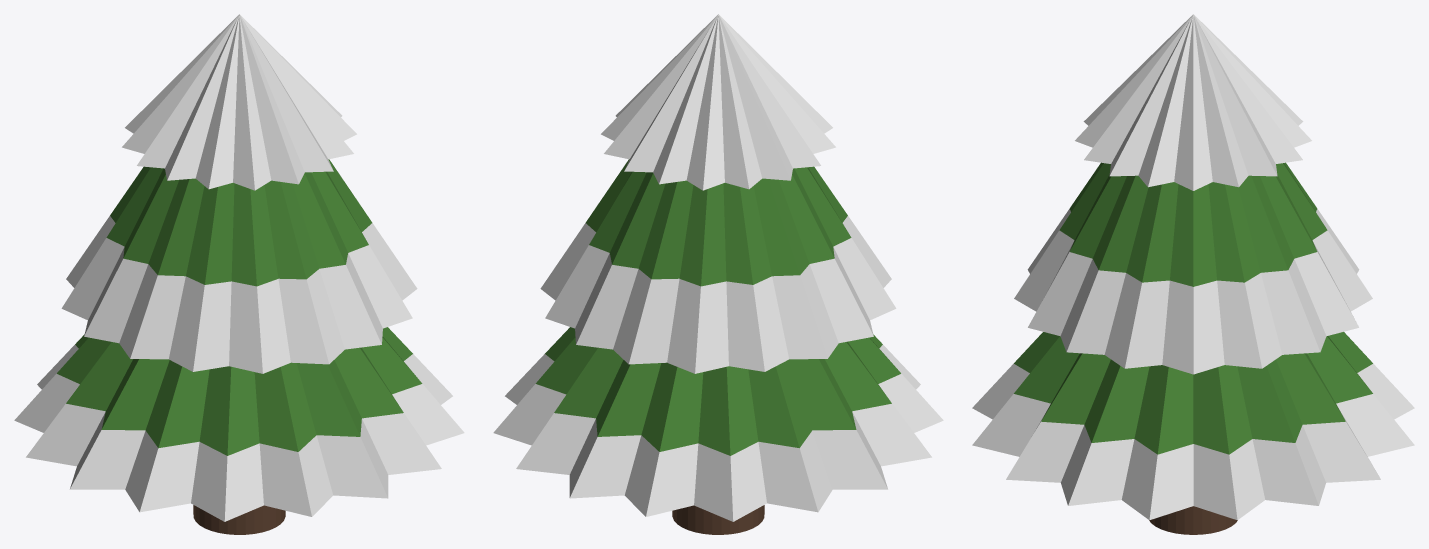
The model's file is Wood1.fbx.
3 views of the same model, side by side, from view 1: azimuth 30°, elevation 25°; view 2: azimuth 150°, elevation 25°; view 3: azimuth 270°, elevation 25° (orthographic).
Parts seen in each view (by area): view 1: Wood1; view 2: Wood1; view 3: Wood1.
Boxes of the visible parts, left/top/right/bottom form: Wood1: left=14, top=14, right=464, bottom=534; Wood1: left=493, top=14, right=943, bottom=534; Wood1: left=972, top=14, right=1414, bottom=534.
Size of the model in its own units: 9.61 by 9.61 by 12.
